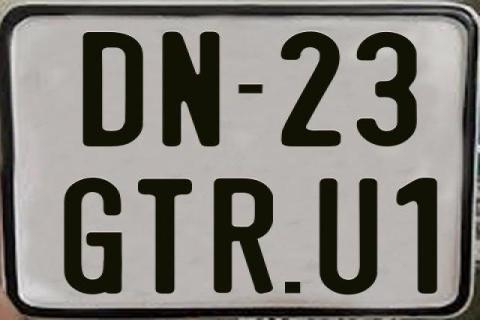0: (356, 32, 417, 150), (280, 31, 340, 149), (395, 175, 439, 295)
D: (82, 30, 146, 150)
G: (61, 177, 123, 295)
N: (161, 31, 221, 147)
R: (214, 176, 278, 292)
T: (136, 179, 194, 295)
U: (317, 176, 377, 297)
